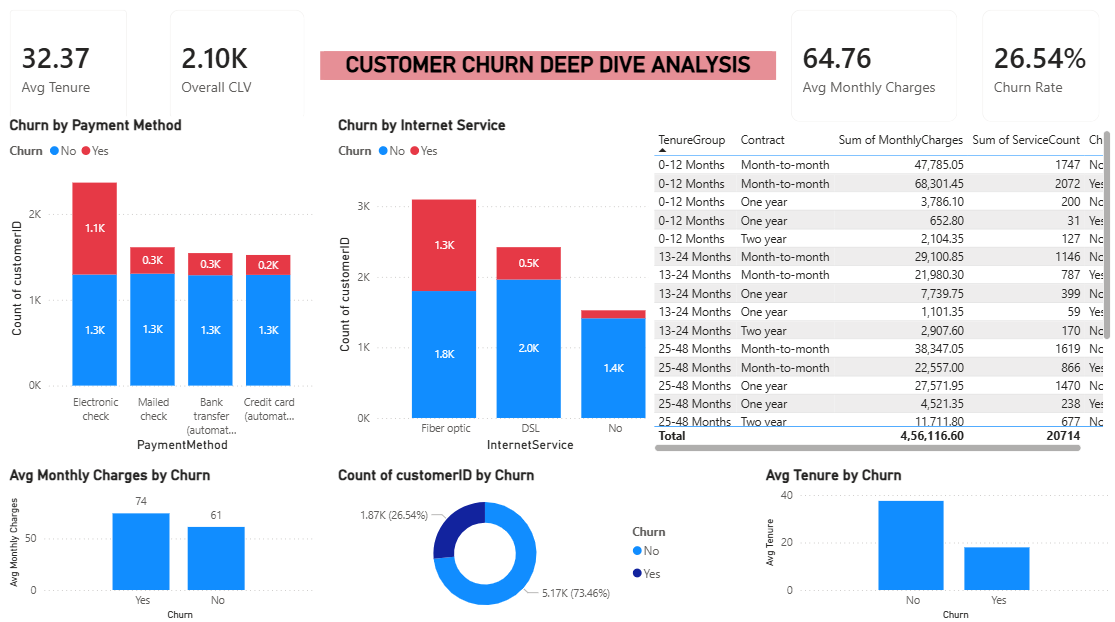

What the dashboard file says about the page in this screenshot:
{"tool":"powerbi","page":{"name":"Page 2","canvas":[1280,720],"ordinal":1},"visuals":[{"type":"textbox","title":"CUSTOMER CHURN DEEP DIVE ANALYSIS","box":[371.4,64.3,521.4,34.3],"z":0},{"type":"cardVisual","fields":{"Data":["Customer data.Avg Tenure"]},"box":[0,0,168.6,162.9],"z":1000},{"type":"cardVisual","fields":{"Data":["Customer data.Overall CLV"]},"box":[182.9,0,188.6,162.9],"z":2000},{"type":"cardVisual","fields":{"Data":["Customer data.Avg Monthly Charges"]},"box":[892.9,0,224.3,162.9],"z":3000},{"type":"cardVisual","fields":{"Data":["Customer data.Churn Rate"]},"box":[1111.4,0,168.6,162.9],"z":4000},{"type":"columnChart","title":"Churn by Payment Method","fields":{"Category":["Customer data.PaymentMethod"],"Y":["CountNonNull(Customer data.customerID)"],"Series":["Customer data.Churn"]},"box":[11.4,138.6,360,388.6],"z":5000},{"type":"columnChart","title":"Churn by Internet Service","fields":{"Category":["Customer data.InternetService"],"Series":["Customer data.Churn"],"Y":["CountNonNull(Customer data.customerID)"]},"box":[387.1,138.6,404.3,388.6],"z":6000},{"type":"columnChart","fields":{"Category":["Customer data.Churn"],"Y":["Customer data.Avg Monthly Charges"]},"box":[11.4,538.6,360,181.4],"z":7000},{"type":"columnChart","fields":{"Category":["Customer data.Churn"],"Y":["Customer data.Avg Tenure"]},"box":[875.7,538.6,404.3,181.4],"z":8000},{"type":"donutChart","fields":{"Category":["Customer data.Churn"],"Y":["CountNonNull(Customer data.customerID)"]},"box":[387,539,404,181],"z":9000},{"type":"tableEx","fields":{"Values":["Customer data.TenureGroup","Customer data.Contract","Sum(Customer data.MonthlyCharges)","Sum(Customer data.ServiceCount)","Customer data.Churn"]},"box":[747.1,150,532.9,377.1],"z":10000}]}

Visuals, with their boxes in screenshot pixels (x1, y1, x2, y2), scaled from the page's 1280x720 canvas onto the 1115x622 screenshot:
"CUSTOMER CHURN DEEP DIVE ANALYSIS" textbox: rect(324, 56, 778, 85)
cardVisual - Customer data.Avg Tenure: rect(0, 0, 147, 141)
cardVisual - Customer data.Overall CLV: rect(159, 0, 324, 141)
cardVisual - Customer data.Avg Monthly Charges: rect(778, 0, 973, 141)
cardVisual - Customer data.Churn Rate: rect(968, 0, 1114, 141)
"Churn by Payment Method" columnChart: rect(10, 120, 324, 455)
"Churn by Internet Service" columnChart: rect(337, 120, 689, 455)
columnChart - Customer data.Churn x Customer data.Avg Monthly Charges: rect(10, 465, 324, 621)
columnChart - Customer data.Churn x Customer data.Avg Tenure: rect(763, 465, 1114, 621)
donutChart - Customer data.Churn x CountNonNull(Customer data.customerID): rect(337, 466, 689, 621)
tableEx - Customer data.TenureGroup x Customer data.Contract: rect(651, 130, 1114, 455)
